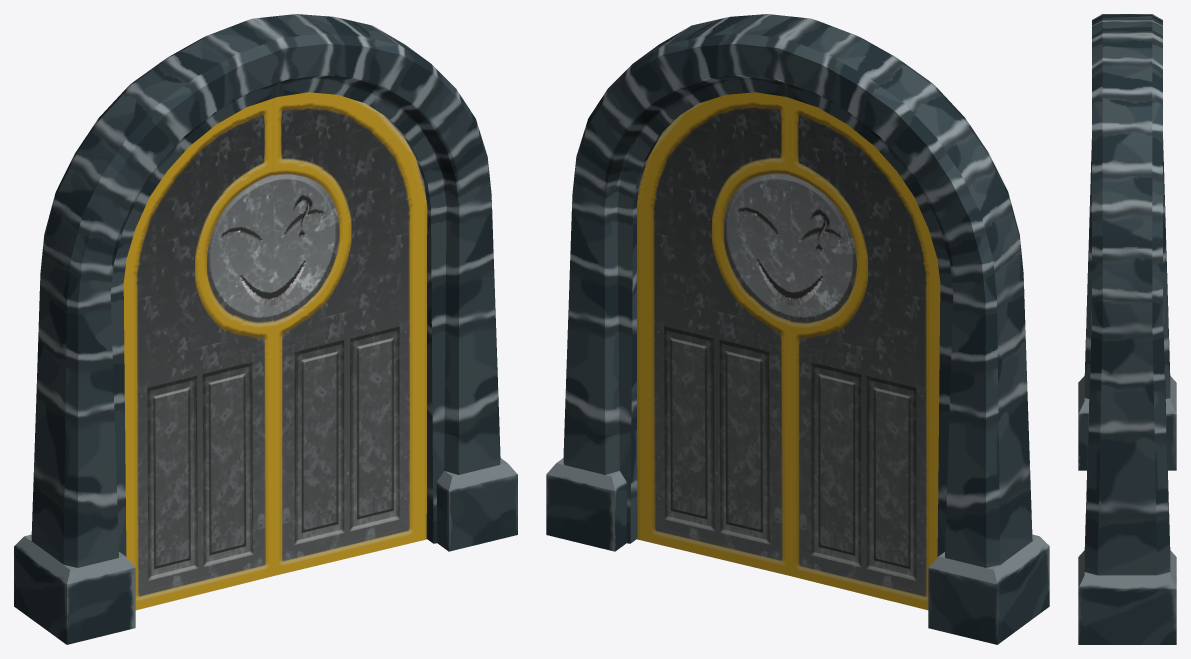
File: door.fbx
The picture shows the model from 3 angles, left to right: view 1: azimuth 30°, elevation 25°; view 2: azimuth 150°, elevation 25°; view 3: azimuth 270°, elevation 25°; orthographic projection. The views are drawn at different scales.
Visible parts, largest first — view 1: frame, door_L, door_R, foundation, mask1; view 2: frame, door_R, door_L, foundation, mask2; view 3: frame, foundation.
Part boxes in pixels (x1,y1,x2,y2): frame: (31, 14, 500, 567); door_L: (123, 98, 273, 610); door_R: (273, 92, 427, 575); foundation: (14, 458, 517, 644); mask1: (273, 174, 339, 320); frame: (563, 14, 1032, 567); door_R: (637, 92, 790, 575); door_L: (790, 98, 940, 610); foundation: (546, 458, 1049, 644); mask2: (790, 176, 856, 322); frame: (1084, 14, 1170, 575); foundation: (1078, 376, 1176, 644).
Size of the model in its own units: 2614 by 3006 by 528.
